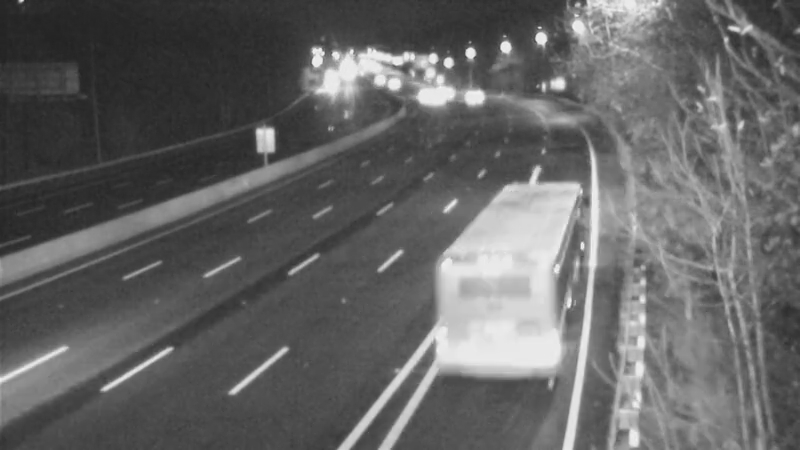vehicle: (457, 237, 537, 317), (367, 56, 417, 106), (343, 51, 393, 101), (418, 66, 468, 116), (396, 70, 446, 120), (436, 67, 486, 117)
